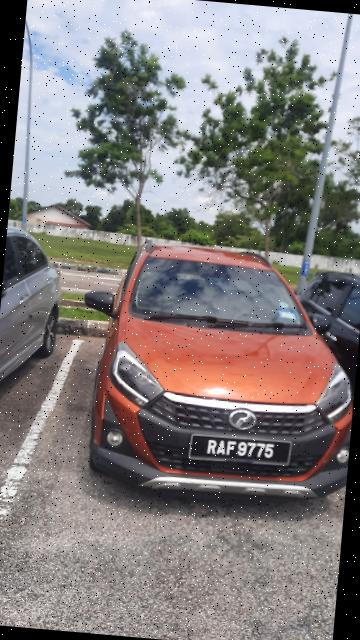License_Plate: (186, 422, 301, 473)
car: (73, 239, 360, 526)
